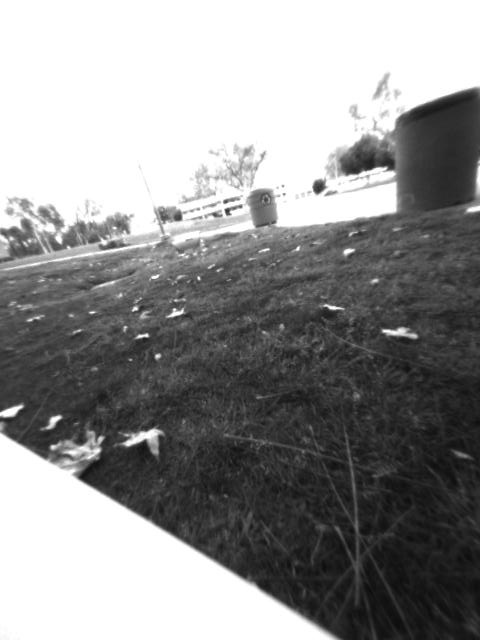trashcan: (389, 84, 480, 213), (243, 187, 283, 229)
